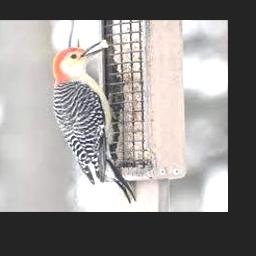Woodpecker: (53, 40, 136, 203)
